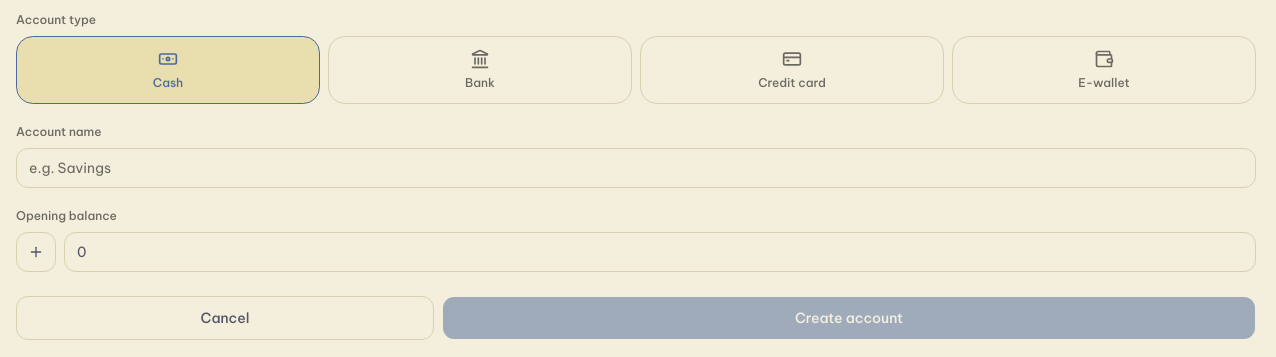
AccountForm › formats the opening balance with thousands separators while typing
Replace the text in the field labelled "Opening balance" with "1500000" at (660, 252), box [64,232,1256,272]
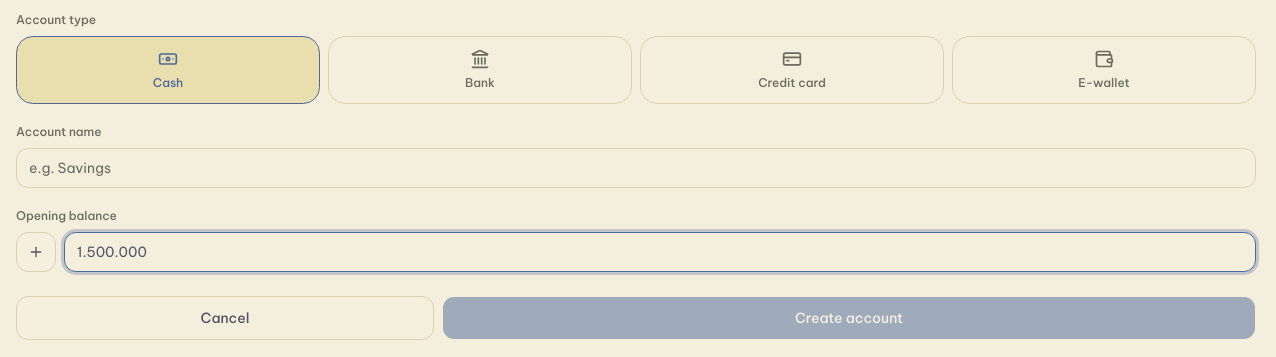
Result: the field labelled "Opening balance" holds "1.500.000" at [64,232,1256,272]
